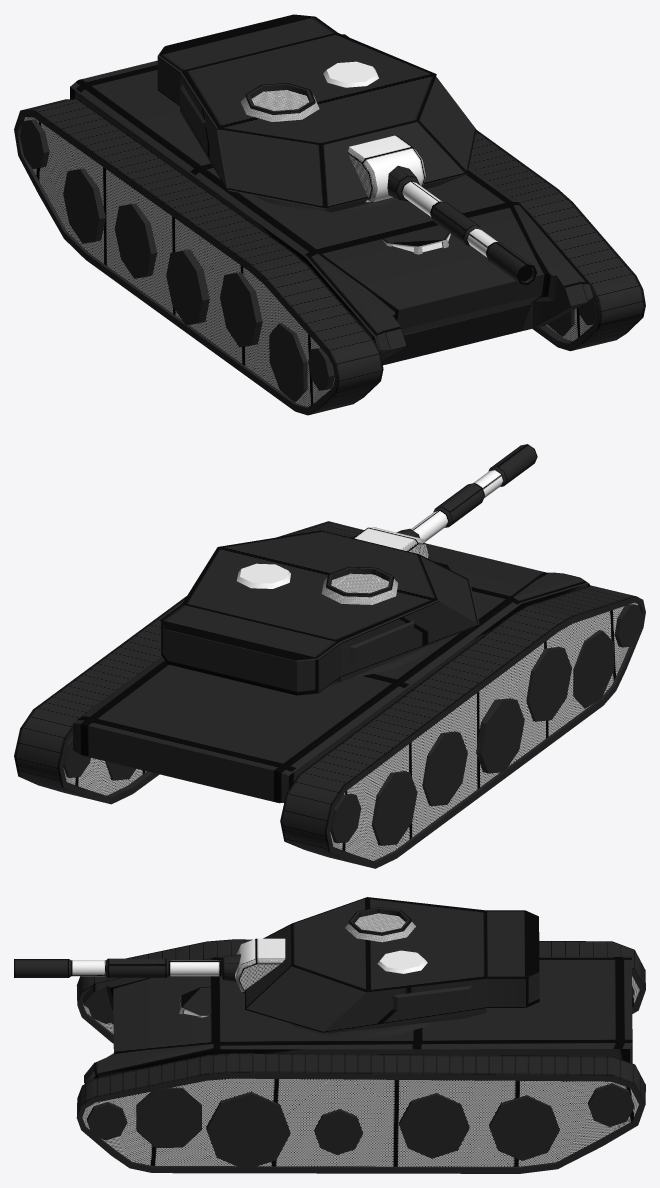
Rendered from Tank_Art.fbx.
3 renders of one model, top to bottom at view 1: azimuth 30°, elevation 25°; view 2: azimuth 150°, elevation 25°; view 3: azimuth 270°, elevation 25°, orthographic. The views are drawn at different scales.
Parts seen in each view (by area): view 1: Tank_Art; view 2: Tank_Art; view 3: Tank_Art.
Boxes of the visible parts, x1,y1,x2,y2 form: Tank_Art: [14, 14, 645, 415]; Tank_Art: [14, 444, 645, 868]; Tank_Art: [14, 897, 645, 1173].
Size of the model in its own units: 12.1 by 6.92 by 23.39.
